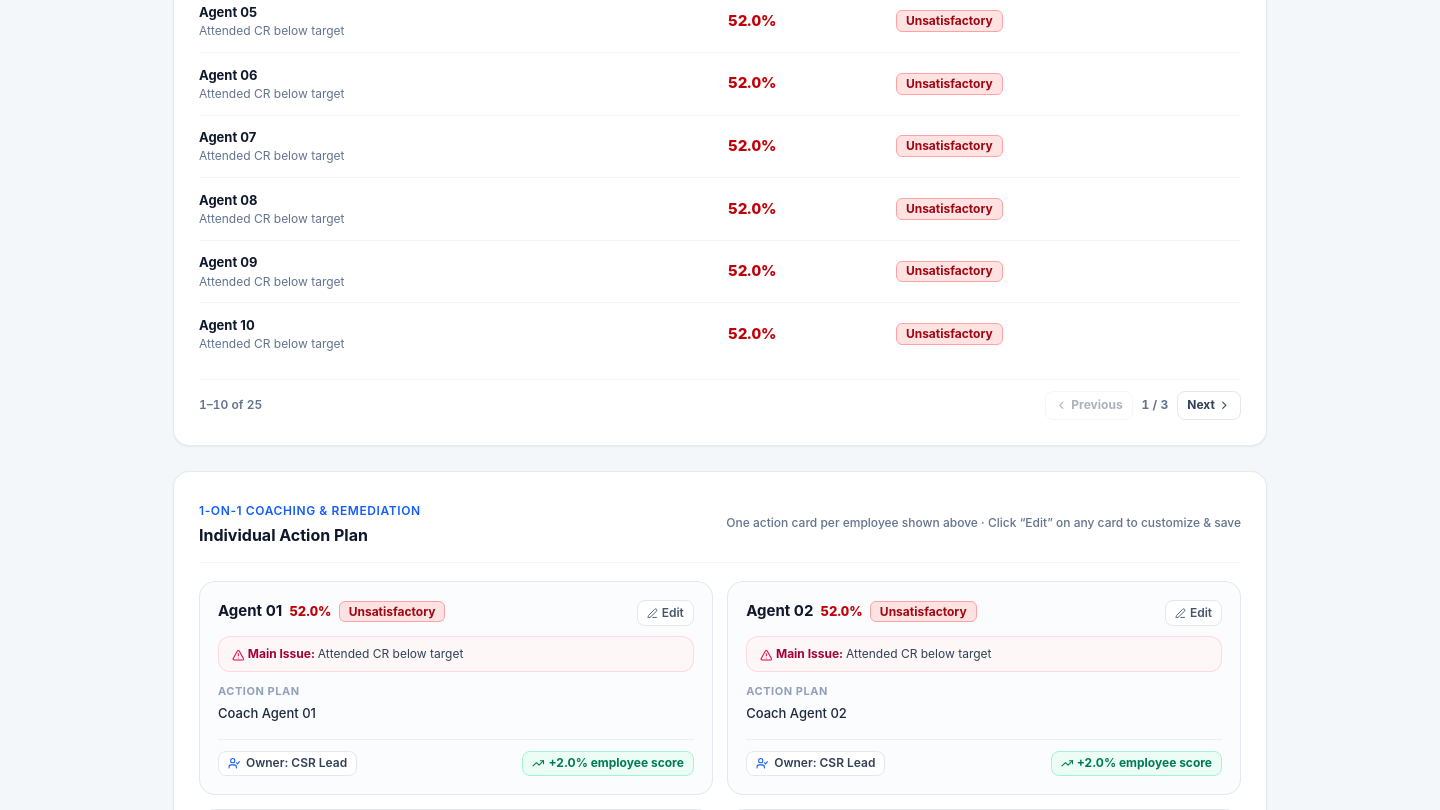
Test case: role member pager › pages the people table and the coaching cards ten at a time
(page scrolled)
Check: the text "Agent 11" is not shown
Check: the navigation bar with test id "role-members-pager" shows "1–10 of 25", box [199, 379, 1241, 420]
Click the button with aria-label "Next people": {"x": 1209, "y": 405} [1177, 391, 1241, 420]
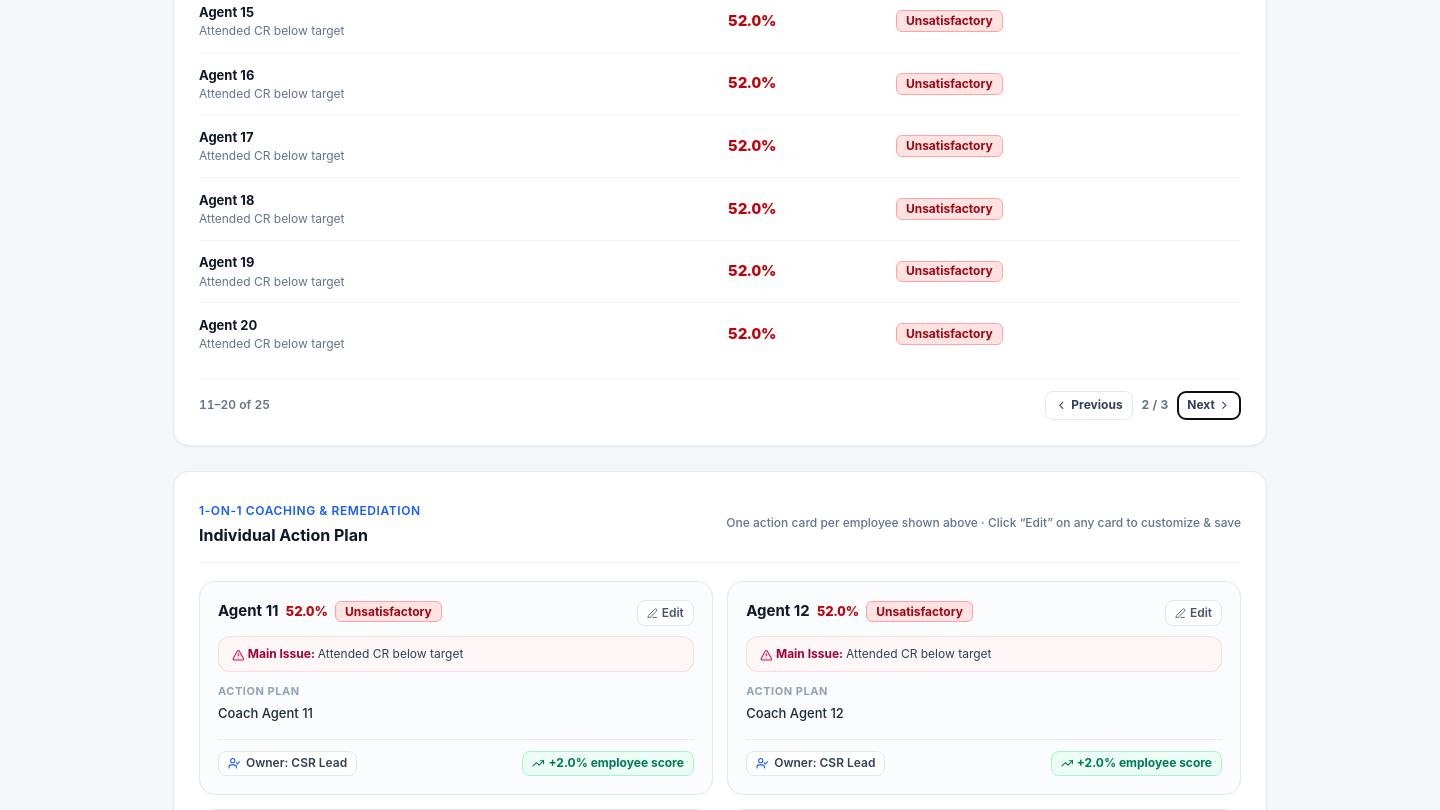
Check: the navigation bar with test id "role-members-pager" shows "11–20 of 25", box [199, 379, 1241, 420]
Check: the navigation bar with test id "role-members-pager" shows "2 / 3", box [199, 379, 1241, 420]
Check: the heading "Agent 11" is shown, box [218, 600, 279, 623]
Click the button with aria-label "Next people": {"x": 1209, "y": 405} [1177, 391, 1241, 420]
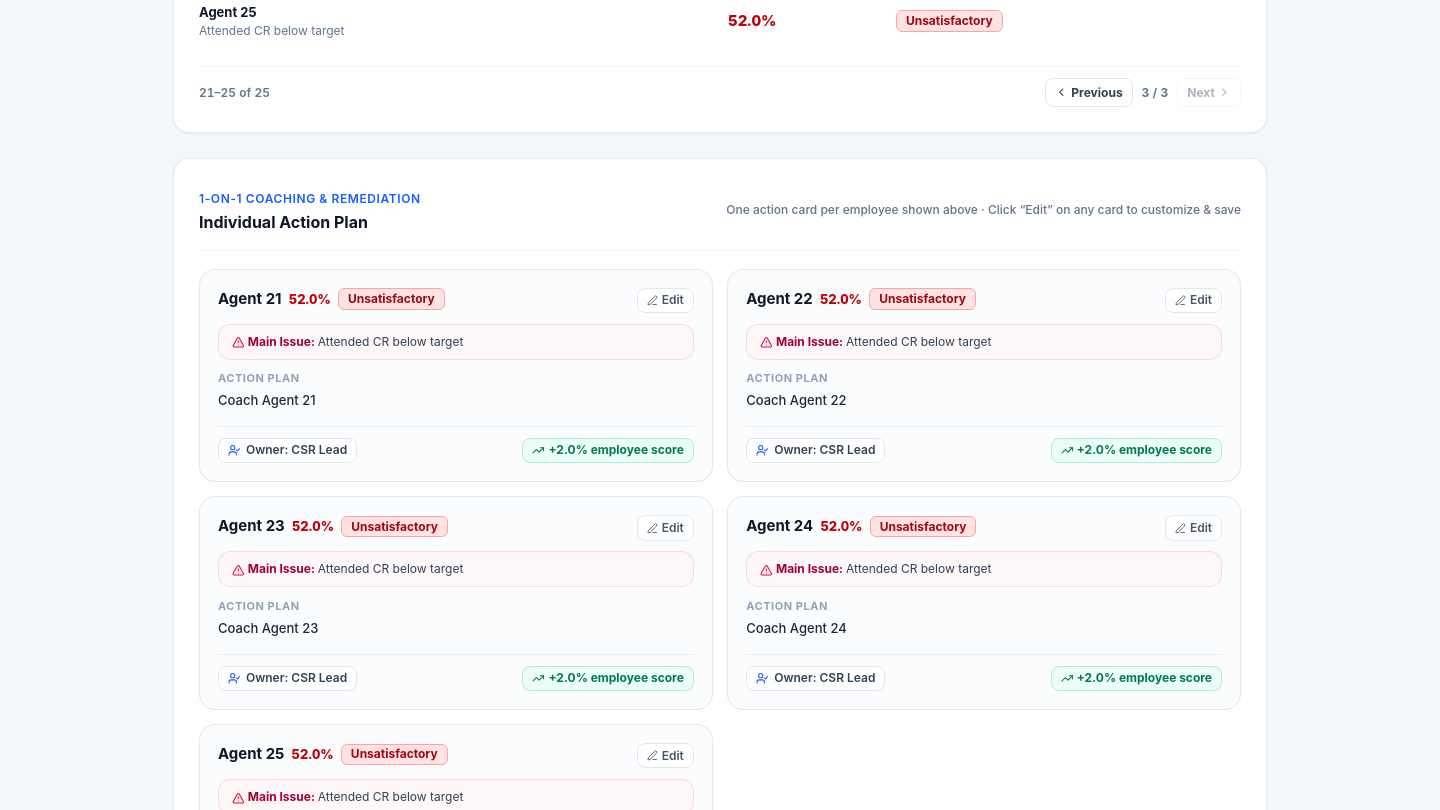
Check: the text "Agent 25" is shown, box [199, 4, 257, 20]
Check: the navigation bar with test id "role-members-pager" shows "21–25 of 25", box [199, 66, 1241, 107]
Check: the button with aria-label "Next people" is disabled, box [1177, 78, 1241, 107]
Click the button with aria-label "Previous people": {"x": 1089, "y": 93} [1045, 78, 1133, 107]
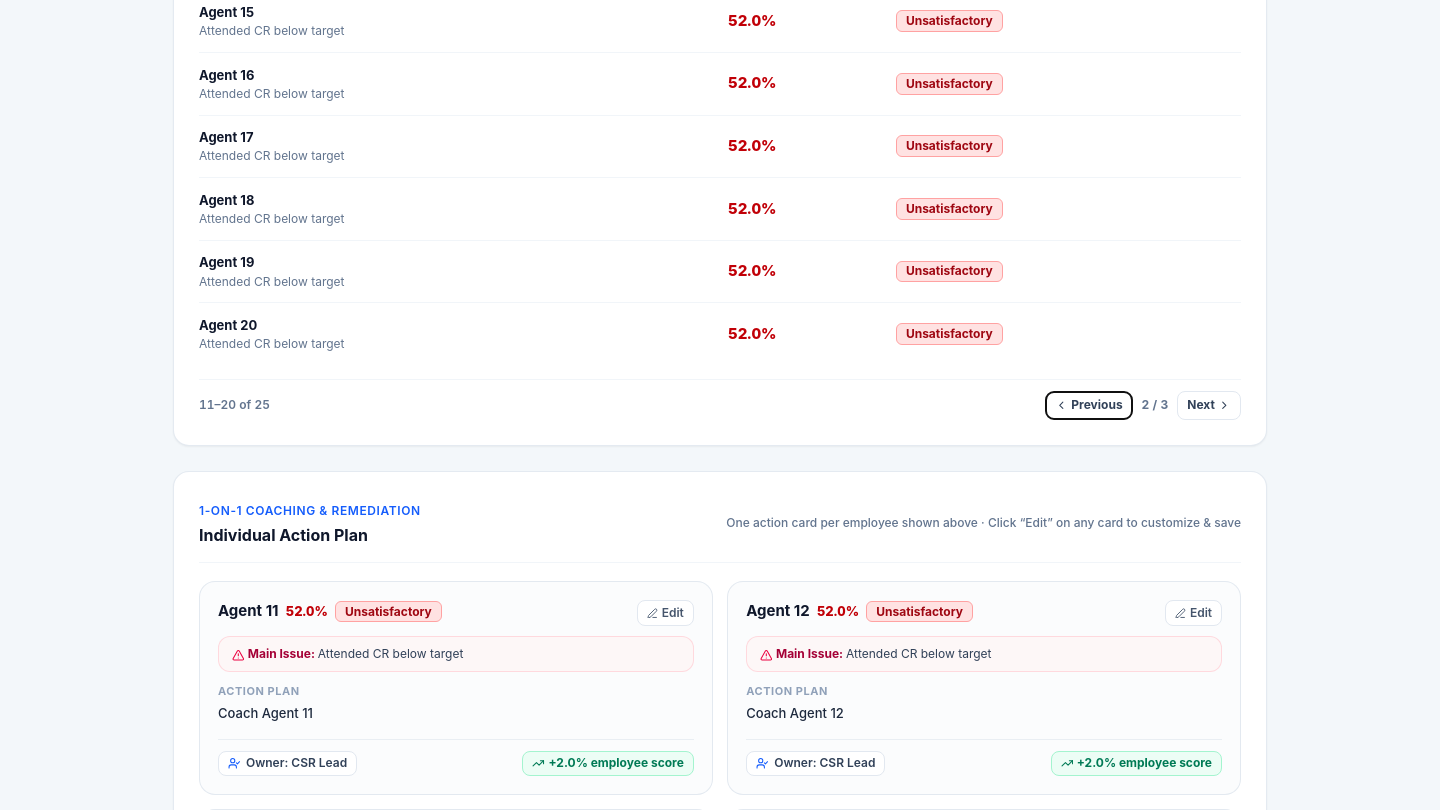
Check: the navigation bar with test id "role-members-pager" shows "11–20 of 25", box [199, 379, 1241, 420]
